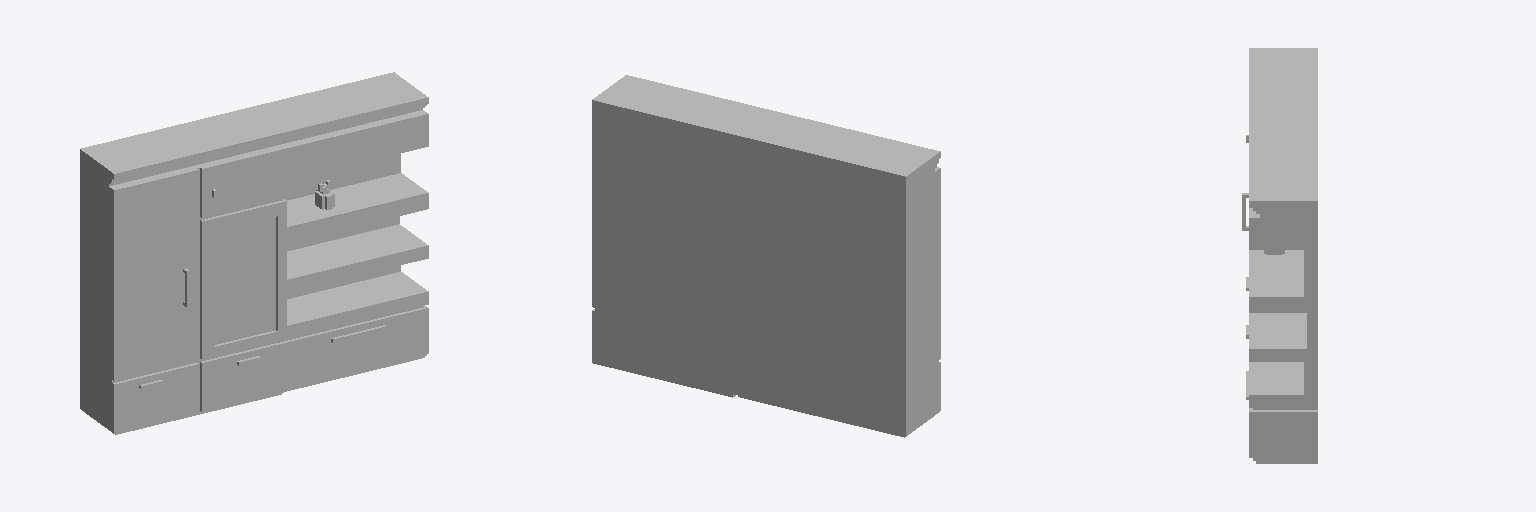
Rendered from shkafZAMOK.obj.
3 views of the same model, side by side, from view 1: azimuth 30°, elevation 25°; view 2: azimuth 150°, elevation 25°; view 3: azimuth 270°, elevation 25° (orthographic).
Visible parts, largest first — view 1: object 1; view 2: object 1; view 3: object 1.
Part boxes in pixels (x1,y1,x2,y2): object 1: (80,72,428,434); object 1: (592,75,940,437); object 1: (1242,48,1317,463).
Bounding box in the file's own units: 10 × 8 × 2.1.